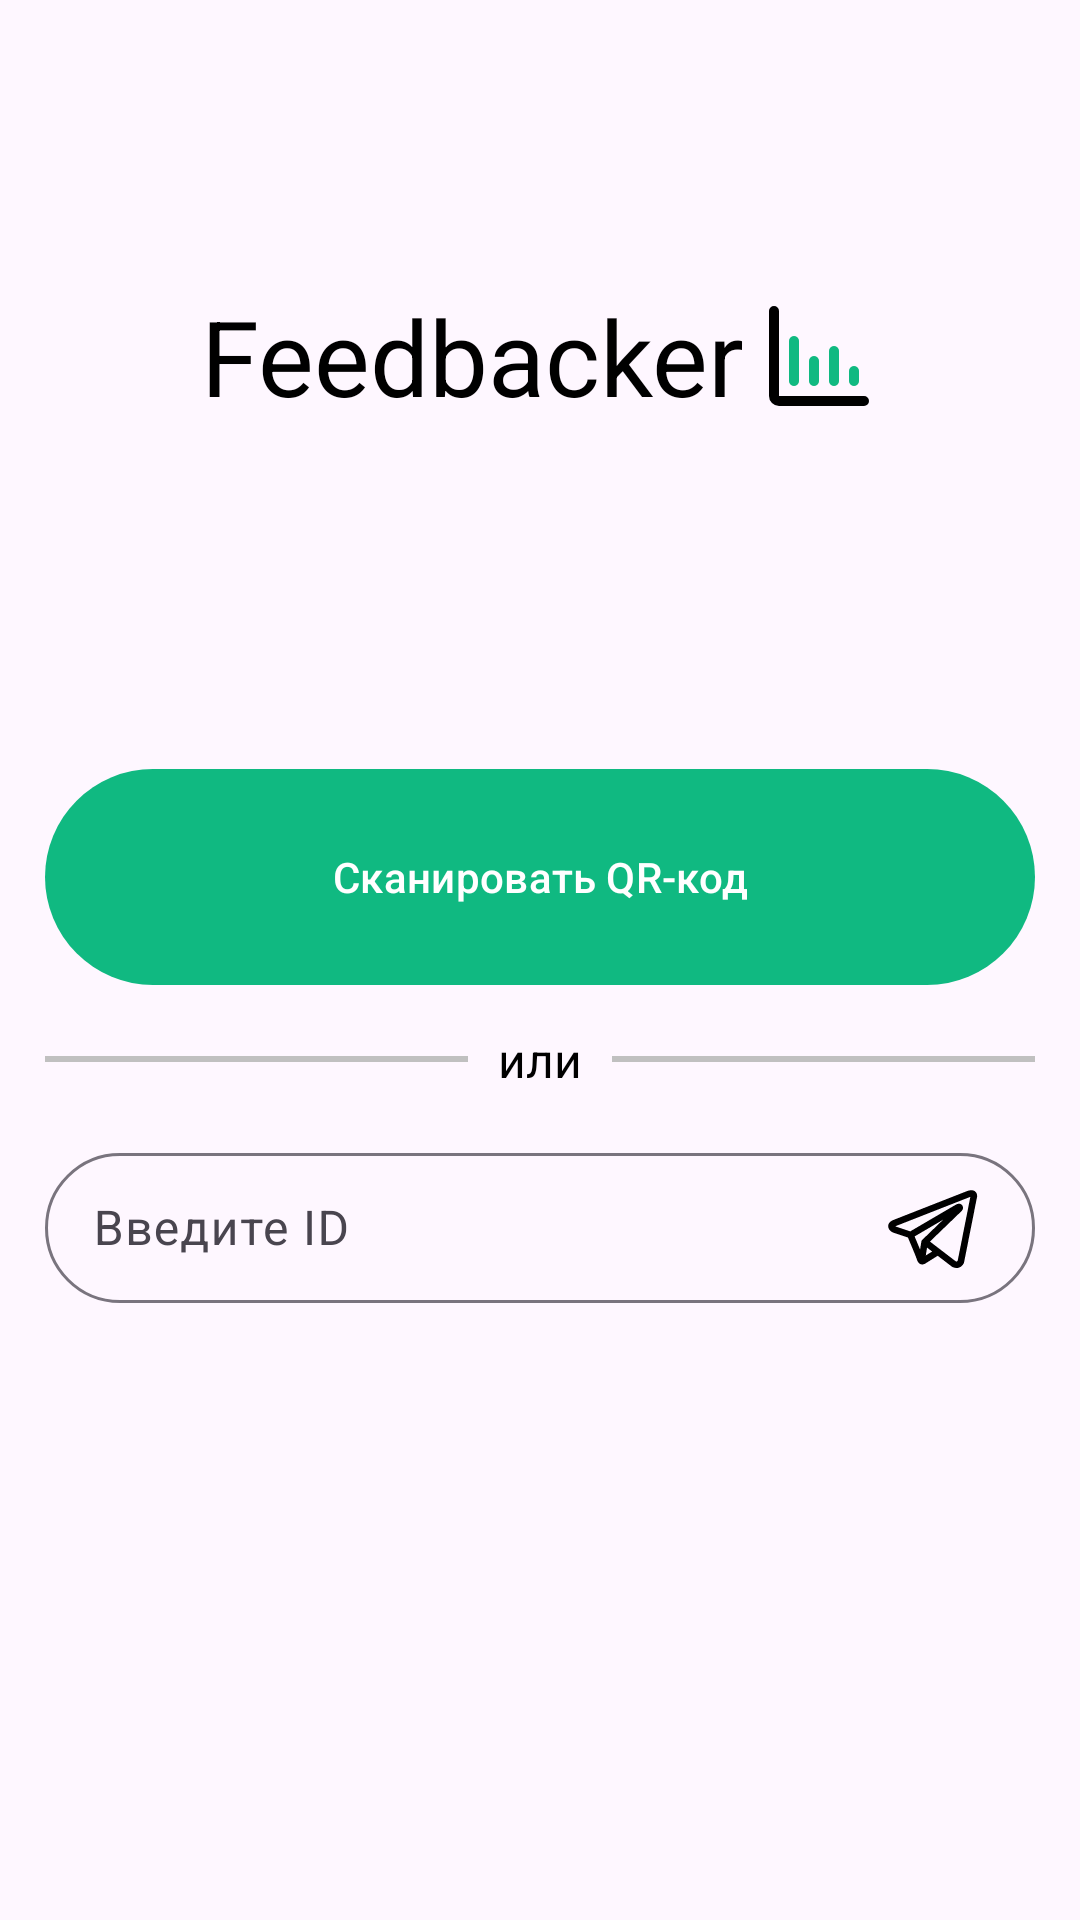

Screen size 1080px x 1920px. Icon name, then its box in pixels as (x1, y1, x2, y2):
diagram bar: (769, 306, 869, 406)
